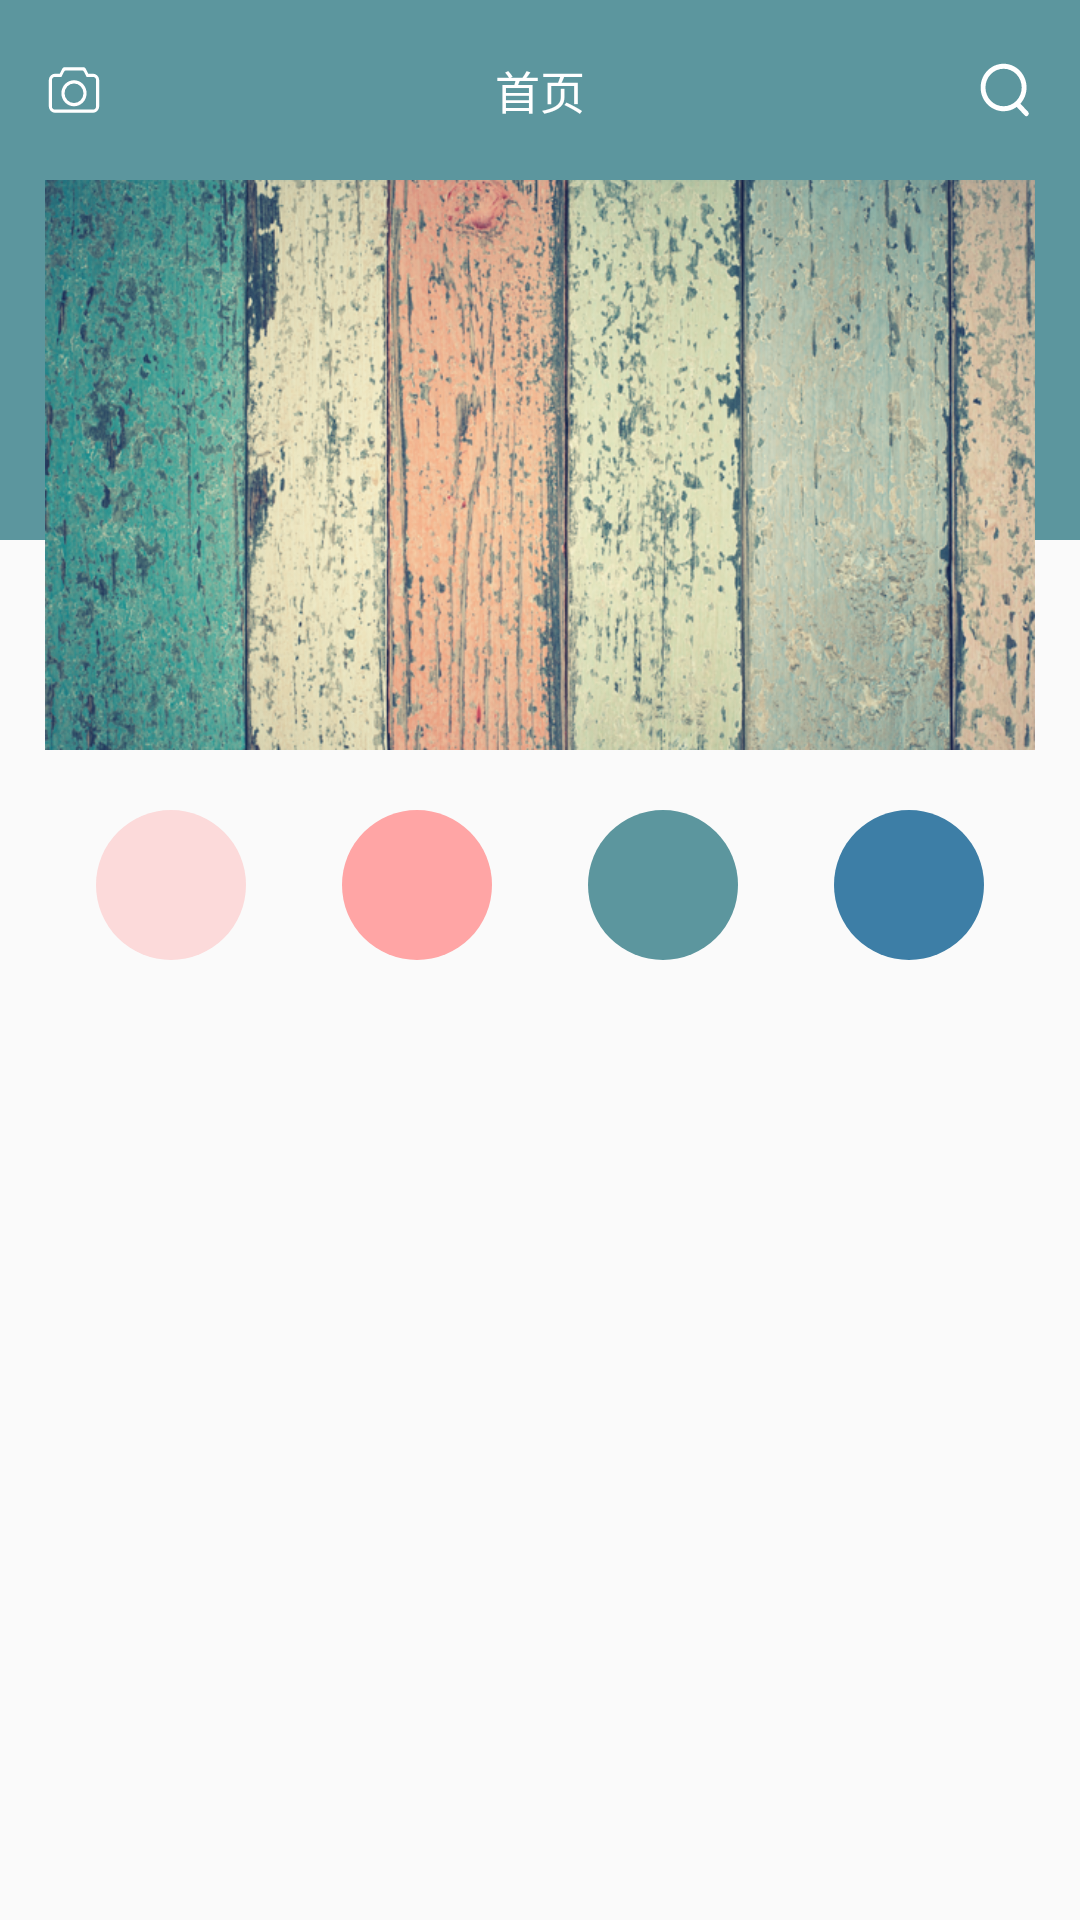

Icon click points for this 1080w x 1920h phone screenshot, format (x=x, y=y):
camera: (x=74, y=90)
search: (x=1004, y=90)
